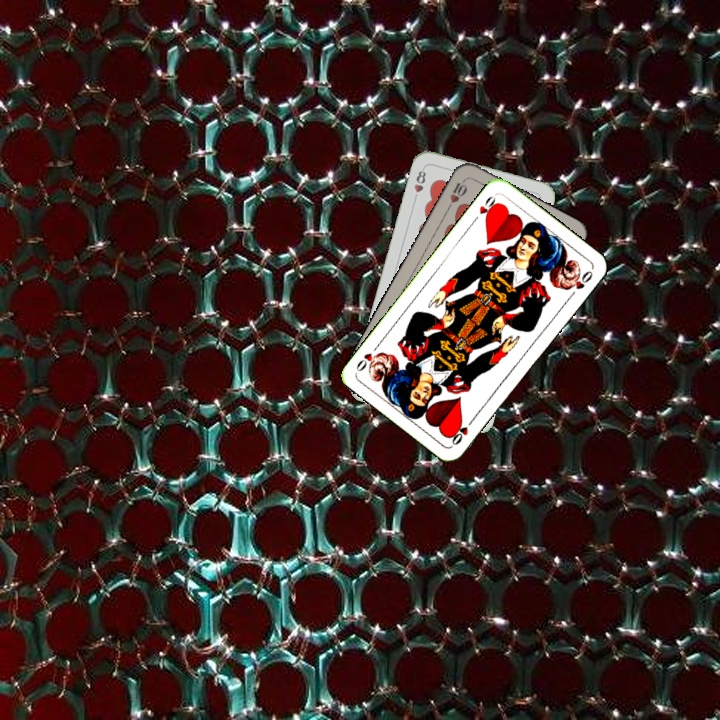H10: (443, 175, 470, 212)
H8: (410, 164, 429, 204)
HO: (469, 190, 501, 225), (447, 413, 477, 448)
